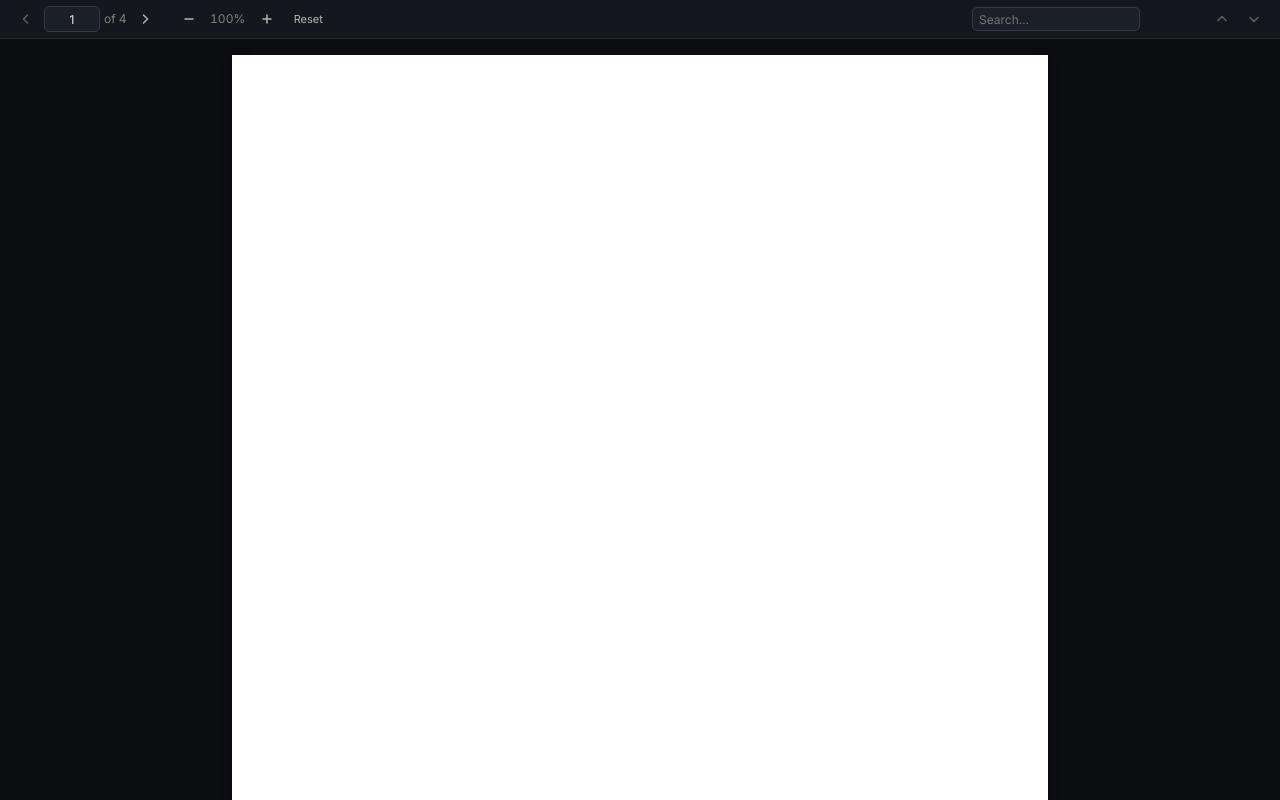
PDV-FR-HQTN: zoom › PDV-FR-HQTN: Reset zoom returns to 100 percent
This screenshot has width=1280, height=800.
Click the button named "Zoom in" at [267, 19], box [253,7,281,31]
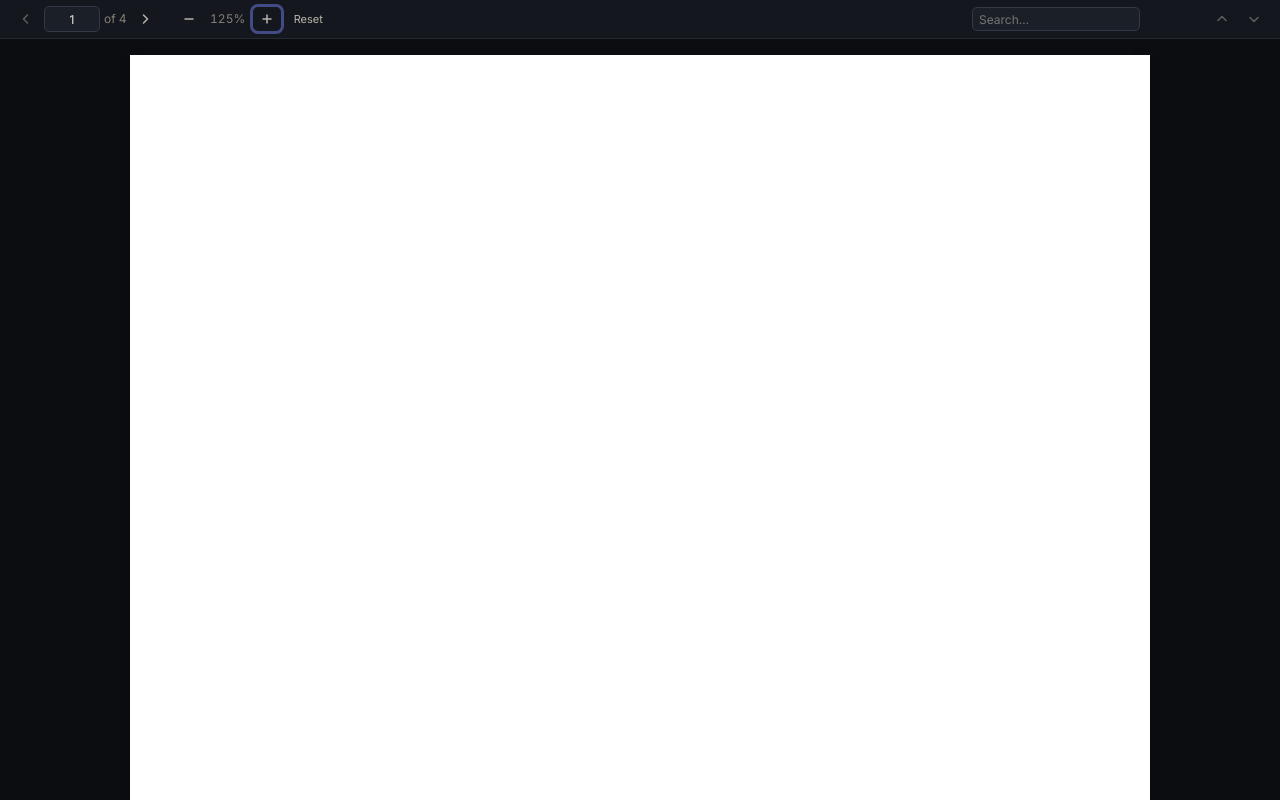
Click the button named "Zoom in" at [267, 19], box [253,7,281,31]
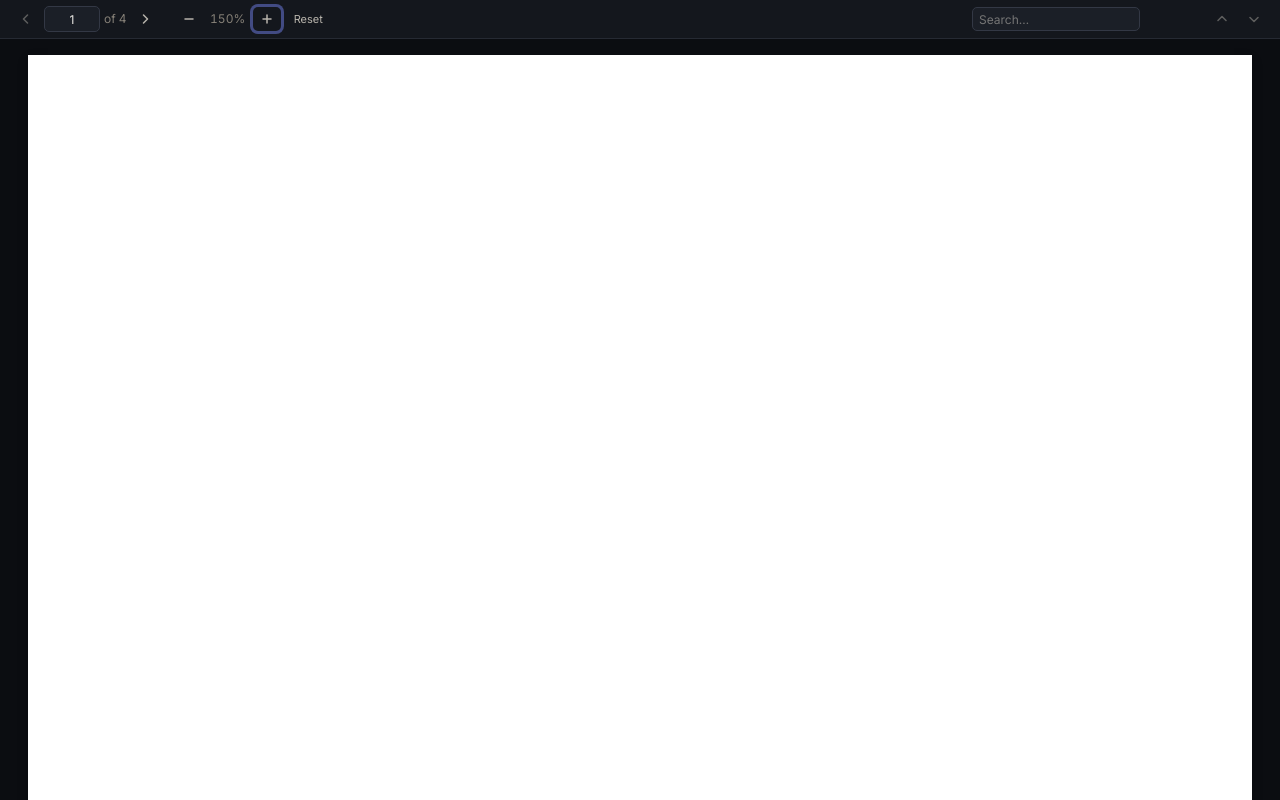
Expected: the text "150%" is shown, [210,11,245,26]
Click the button with aria-label "Reset zoom" at [308, 19], box [285,7,332,31]
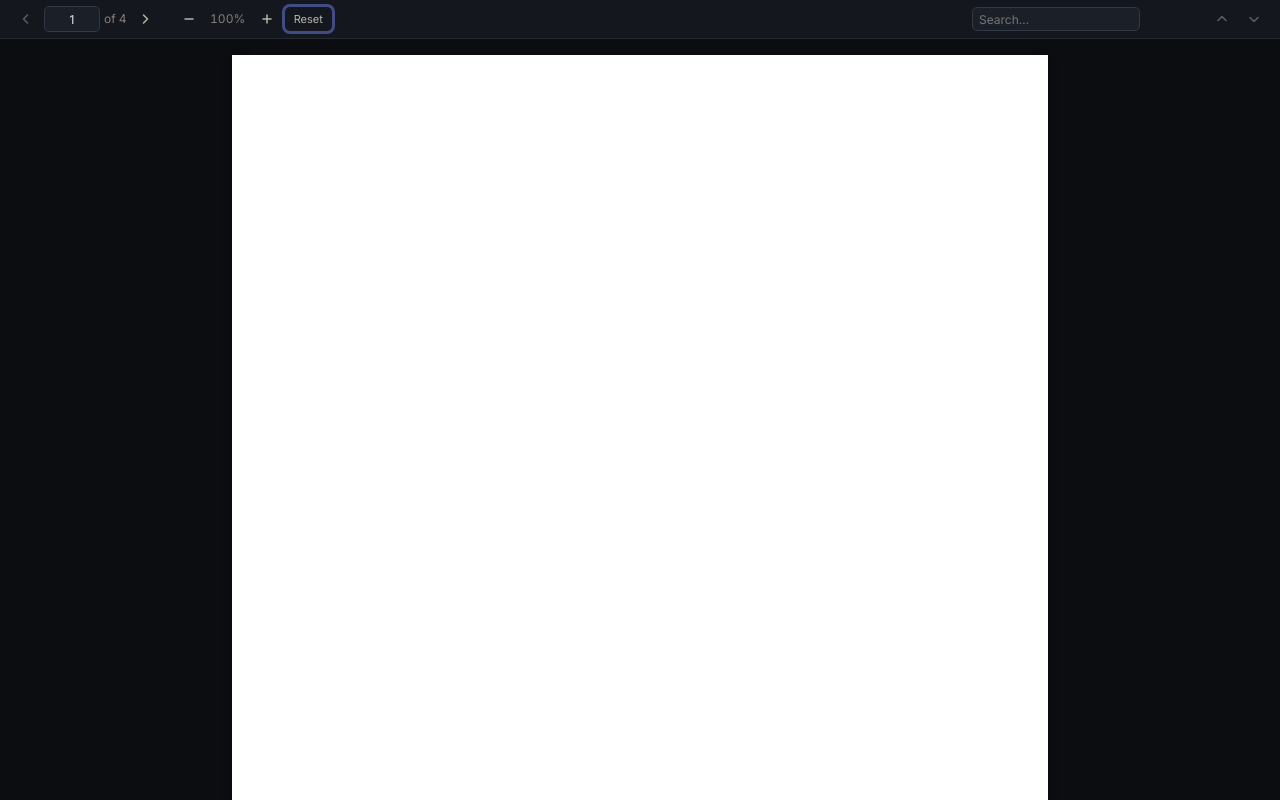
Expected: the text "100%" is shown, [210,11,245,26]
